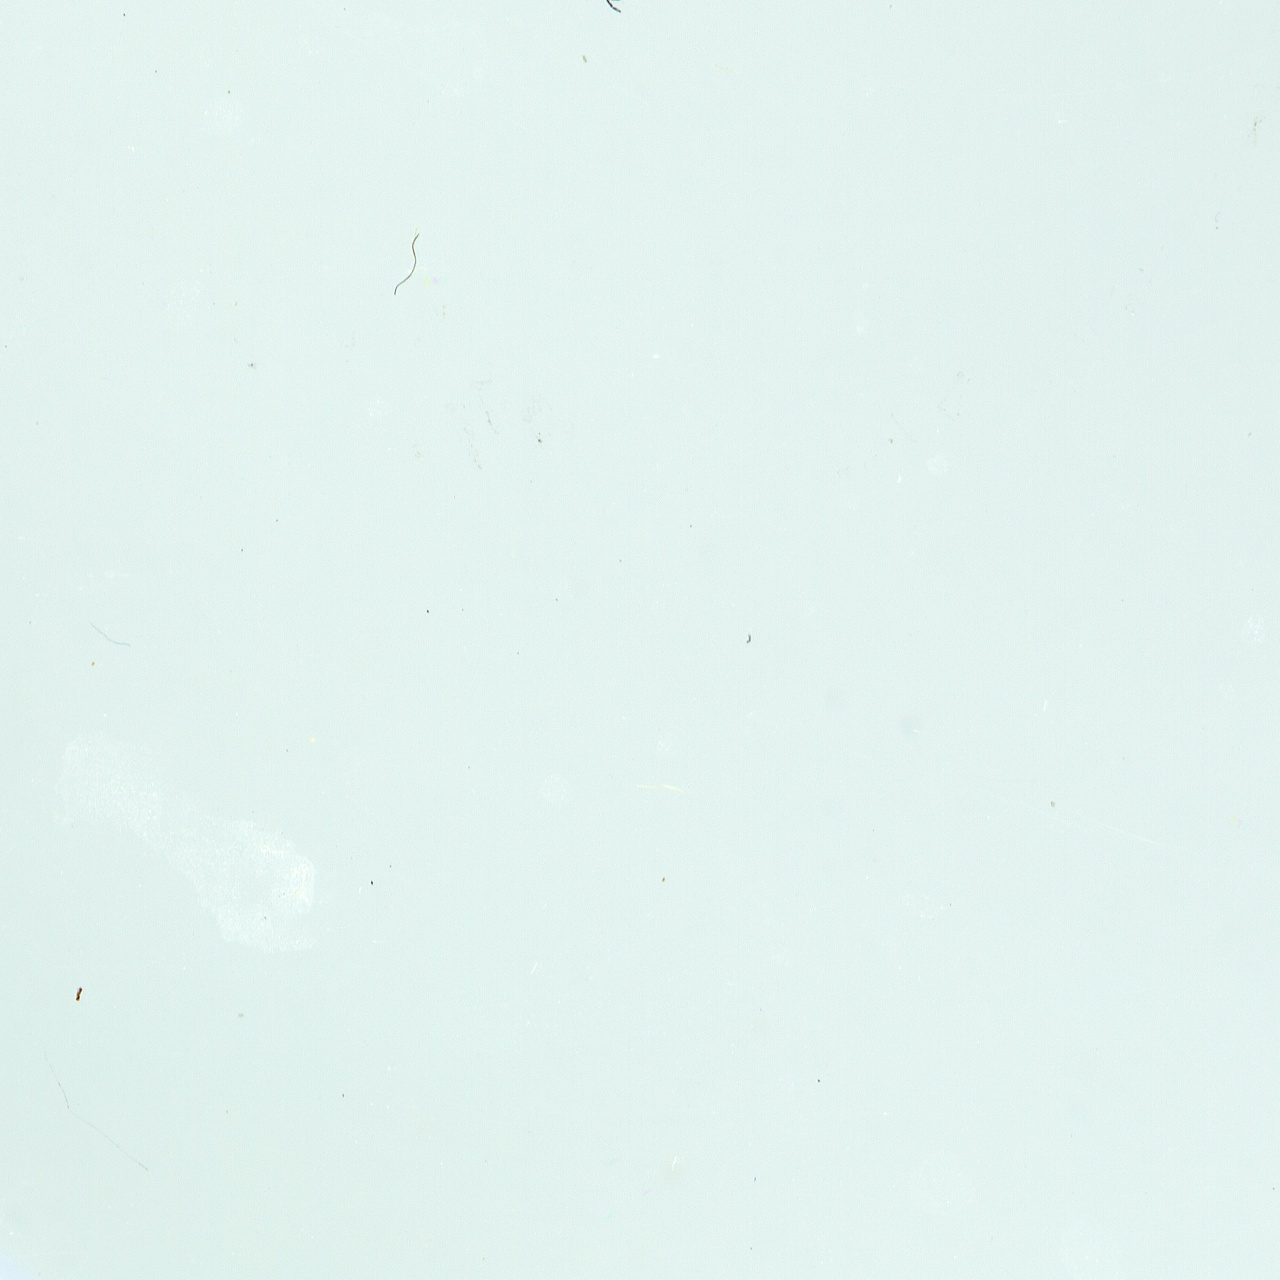arthropod: (587, 0, 635, 16)
